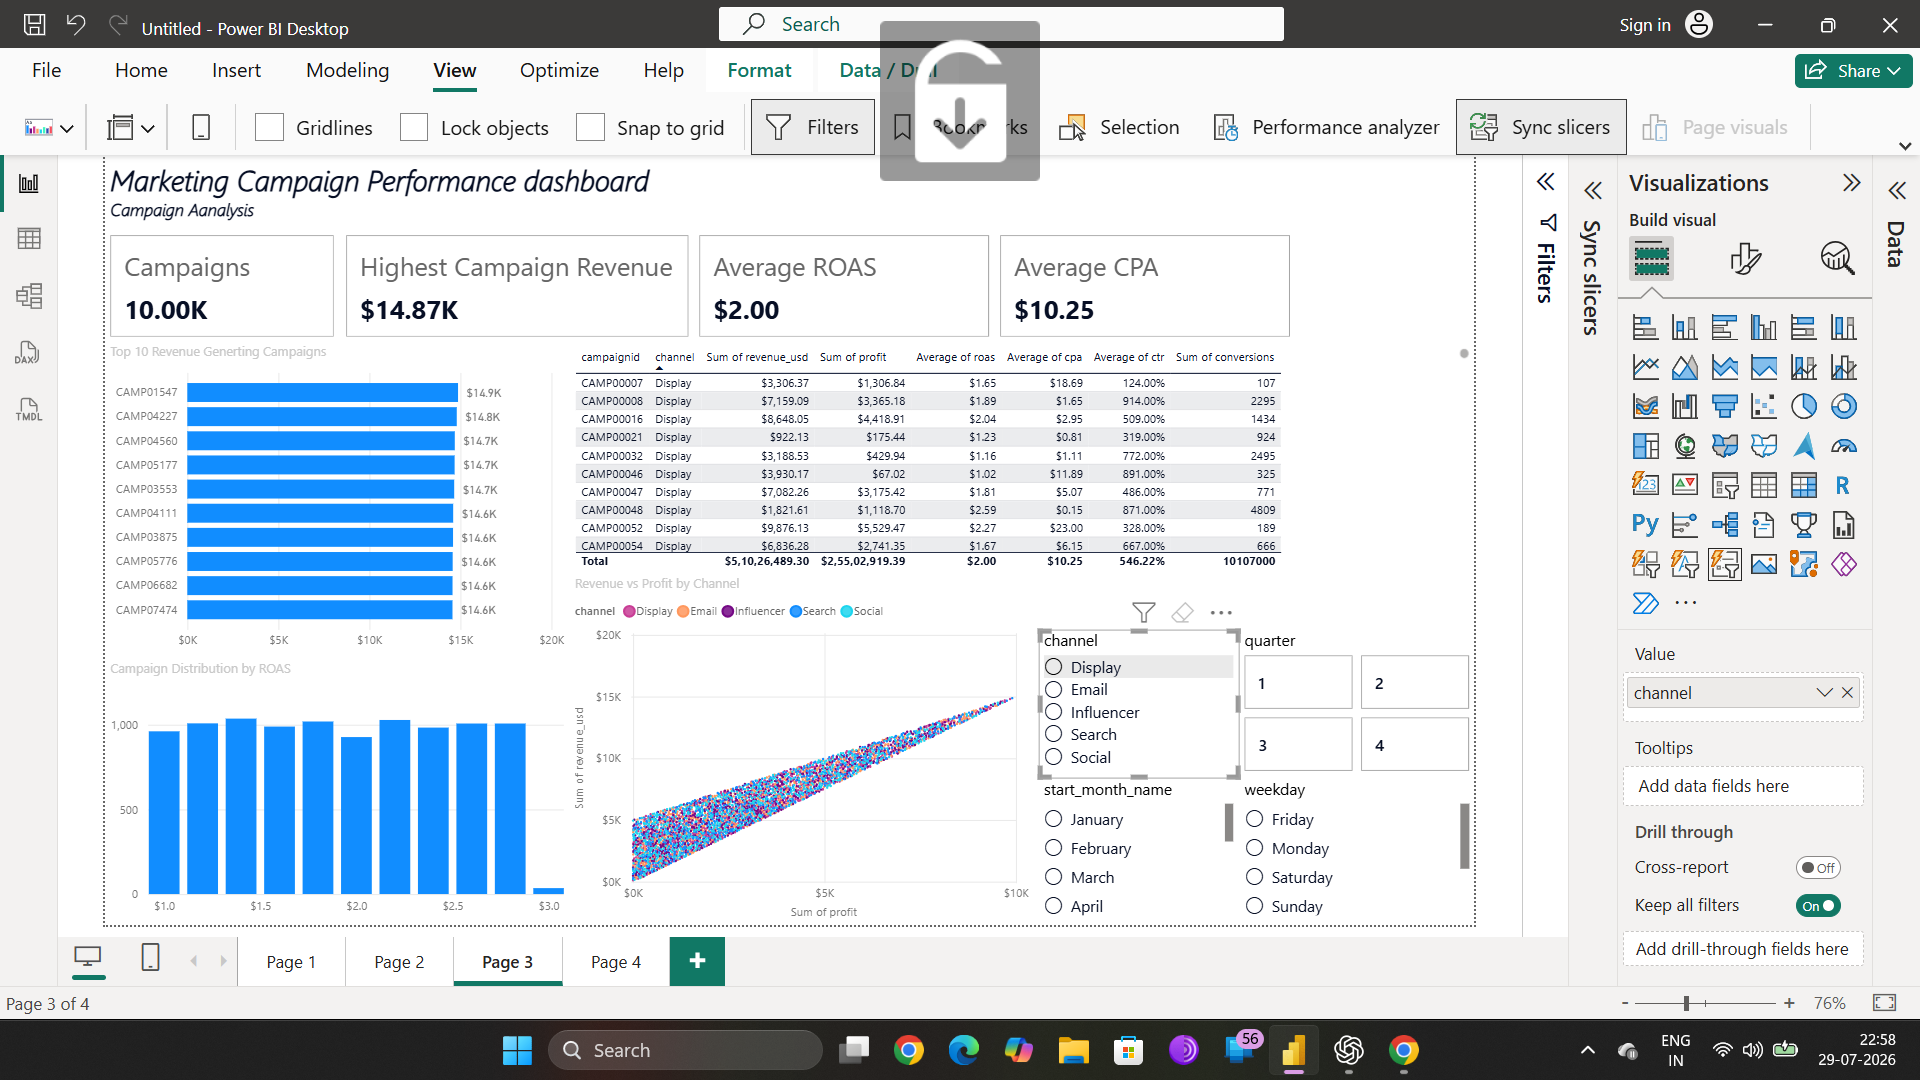

The page's visual inventory and layout, read from the dashboard file:
{"tool":"powerbi","page":{"name":"Page 3","canvas":[1280,720],"ordinal":2},"visuals":[{"type":"cardVisual","fields":{"Data":["Count(marketing_campaign_engineered.campaignid)"]},"box":[0,70.6,220,105.1],"z":0},{"type":"cardVisual","fields":{"Data":["Avg(marketing_campaign_engineered.roas)"]},"box":[550.8,70,281.3,105.7],"z":1000},{"type":"cardVisual","fields":{"Data":["Avg(marketing_campaign_engineered.cpa)"]},"box":[832.1,70,281.3,105.7],"z":2000},{"type":"cardVisual","fields":{"Data":["Max(marketing_campaign_engineered.revenue_usd)"]},"box":[220.6,70,330.2,105.7],"z":3000},{"type":"textbox","box":[0,0,1279.8,70.6],"z":4000},{"type":"clusteredBarChart","title":"Top 10 Revenue Generting Campaigns","fields":{"Y":["Sum(marketing_campaign_engineered.revenue_usd)"],"Category":["marketing_campaign_engineered.campaignid"]},"box":[0,175.8,434.5,295.8],"z":5000},{"type":"scatterChart","title":"Revenue vs Profit by Channel","fields":{"X":["Sum(marketing_campaign_engineered.profit)"],"Y":["Sum(marketing_campaign_engineered.revenue_usd)"],"Series":["marketing_campaign_engineered.channel"],"Category":["marketing_campaign_engineered.campaignid"]},"box":[434.3,392.9,434.3,327.1],"z":6000},{"type":"clusteredColumnChart","title":"Campaign Distribution by ROAS","fields":{"Y":["CountNonNull(marketing_campaign_engineered.campaignid)"],"Category":["marketing_campaign_engineered.roas (bins)"]},"box":[0,471.4,434.3,248.6],"z":7000},{"type":"tableEx","fields":{"Values":["marketing_campaign_engineered.campaignid","marketing_campaign_engineered.channel","Sum(marketing_campaign_engineered.revenue_usd)","Sum(marketing_campaign_engineered.profit)","Avg(marketing_campaign_engineered.roas)","Avg(marketing_campaign_engineered.cpa)","Avg(marketing_campaign_engineered.ctr)","Sum(marketing_campaign_engineered.conversions)"]},"box":[434.3,175.7,845.7,217.1],"z":8000},{"type":"advancedSlicerVisual","fields":{"Values":["marketing_campaign_engineered.quarter"]},"box":[1060,444.3,220,138.6],"z":8001},{"type":"listSlicer","fields":{"Values":["marketing_campaign_engineered.channel"]},"box":[872.9,444.3,187.1,138.6],"z":8002},{"type":"listSlicer","fields":{"Values":["marketing_campaign_engineered.start_month_name"]},"box":[872.9,582.9,187.1,137.1],"z":8003},{"type":"listSlicer","fields":{"Values":["marketing_campaign_engineered.weekday"]},"box":[1060,582.9,220,137.1],"z":8004}]}

Visuals, with their boxes on the page's 1280x720 design canvas (x1, y1, x2, y2). These are canvas units, not pixel positions in the 1920x1080 screenshot, which may show the page scaled, cropped or inside an application window:
cardVisual - Count(marketing_campaign_engineered.campaignid): x1=0 y1=71 x2=220 y2=176
cardVisual - Avg(marketing_campaign_engineered.roas): x1=551 y1=70 x2=832 y2=176
cardVisual - Avg(marketing_campaign_engineered.cpa): x1=832 y1=70 x2=1113 y2=176
cardVisual - Max(marketing_campaign_engineered.revenue_usd): x1=221 y1=70 x2=551 y2=176
textbox: x1=0 y1=0 x2=1280 y2=71
"Top 10 Revenue Generting Campaigns" clusteredBarChart: x1=0 y1=176 x2=434 y2=472
"Revenue vs Profit by Channel" scatterChart: x1=434 y1=393 x2=869 y2=720
"Campaign Distribution by ROAS" clusteredColumnChart: x1=0 y1=471 x2=434 y2=720
tableEx - marketing_campaign_engineered.campaignid x marketing_campaign_engineered.channel: x1=434 y1=176 x2=1280 y2=393
advancedSlicerVisual - marketing_campaign_engineered.quarter: x1=1060 y1=444 x2=1280 y2=583
listSlicer - marketing_campaign_engineered.channel: x1=873 y1=444 x2=1060 y2=583
listSlicer - marketing_campaign_engineered.start_month_name: x1=873 y1=583 x2=1060 y2=720
listSlicer - marketing_campaign_engineered.weekday: x1=1060 y1=583 x2=1280 y2=720
